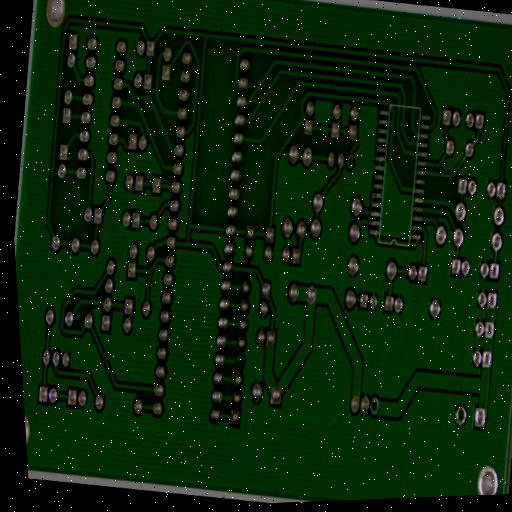missing_hole: (453, 402, 471, 429), (232, 351, 248, 375), (368, 395, 382, 419), (346, 153, 356, 172)
